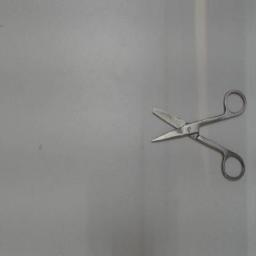Dressing Scissors: (144, 84, 250, 186)
